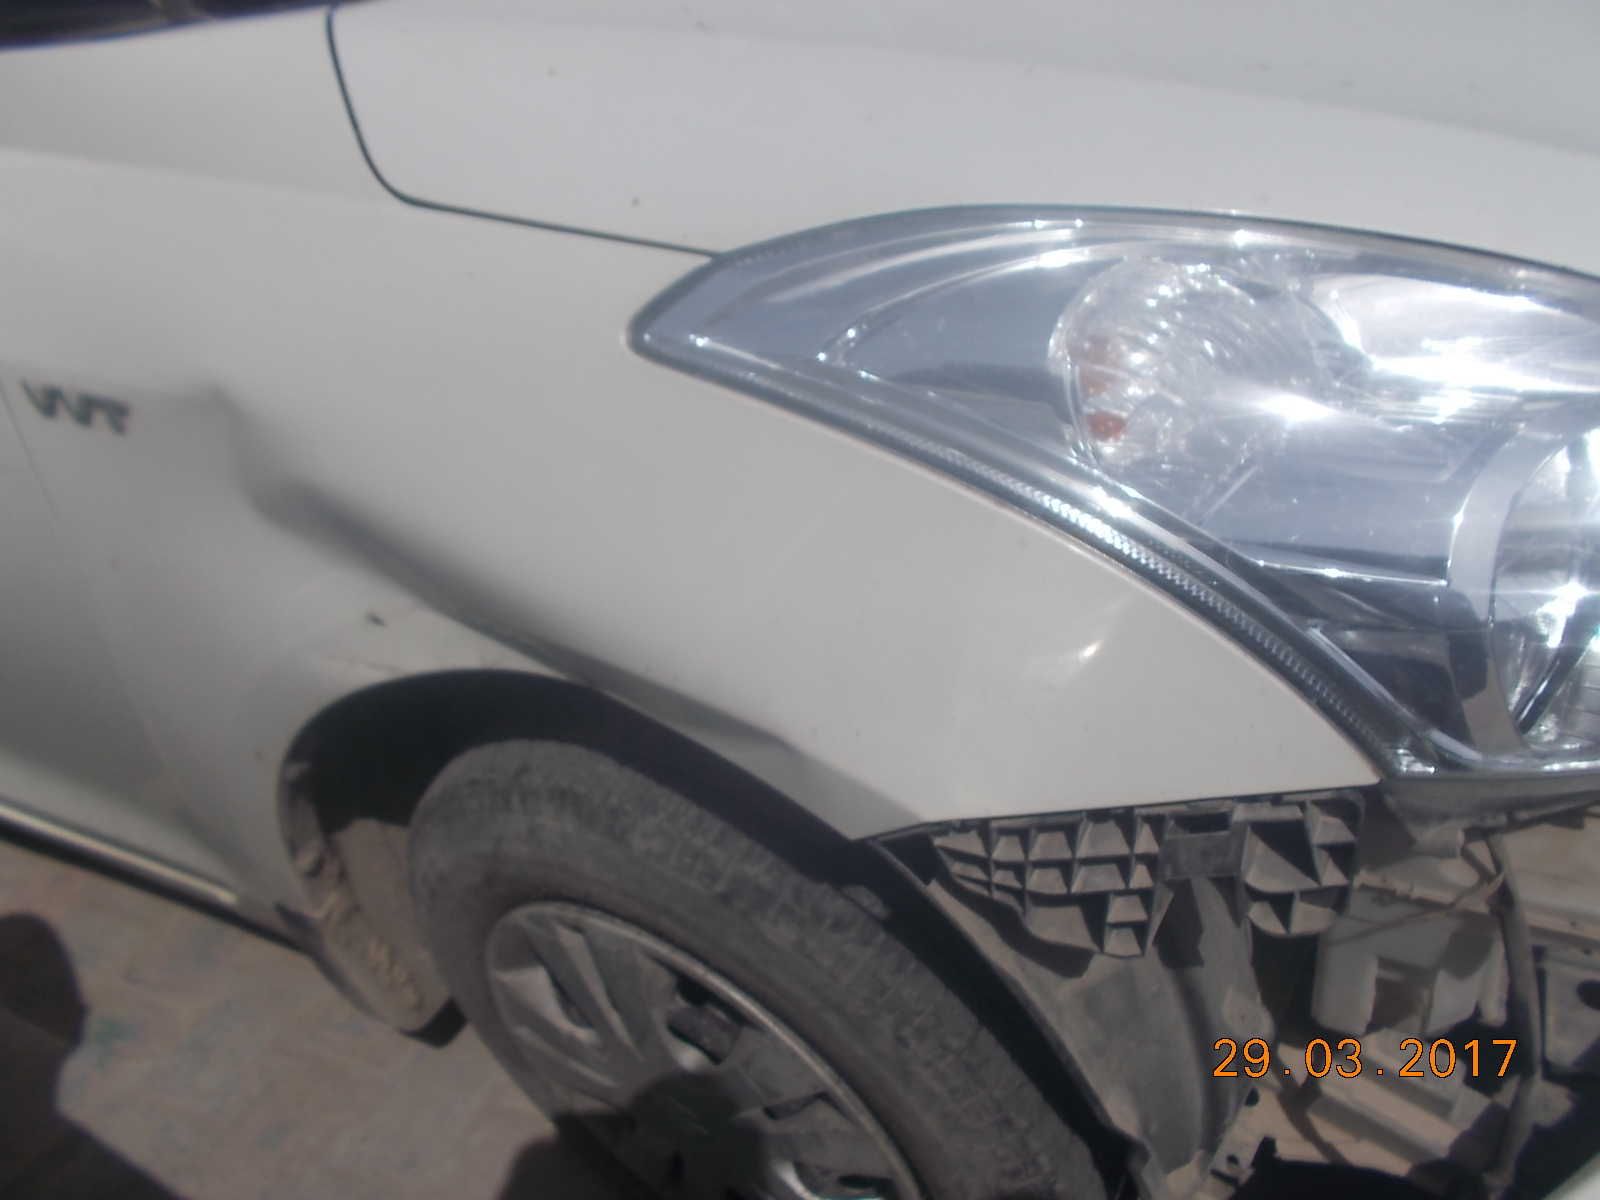Dent: (139, 387, 425, 635)
Large_tear_or_damage: (843, 695, 1597, 1192)
